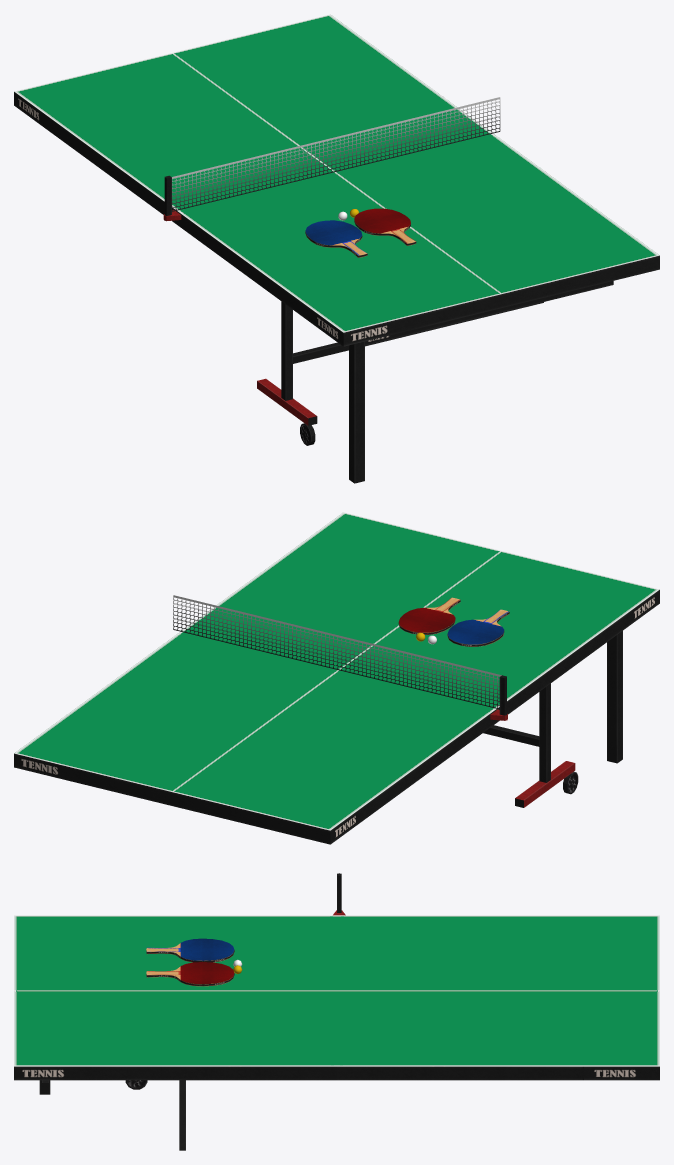
File: Tabl_tennis_Assets.fbx
3 renders of one model, top to bottom at view 1: azimuth 30°, elevation 25°; view 2: azimuth 150°, elevation 25°; view 3: azimuth 270°, elevation 25°, orthographic. The views are drawn at different scales.
Parts seen in each view (by area): view 1: Table_assets_2, Net, Table_assets_7, Rocket_Blue, Rocket_Red1, Table_assets_8, Table_assets_4, Table_assets_5, Table_assets_3; view 2: Table_assets_2, Net, Table_assets_7, Rocket_Blue, Rocket_Red1, Table_assets_4, Table_assets_5, Table_assets_3; view 3: Table_assets_2, Rocket_Red1, Rocket_Blue, Table_assets_3.
Boxes of the visible parts, x1,y1,x2,y2 form: Table_assets_2: [14, 14, 659, 346]; Net: [172, 97, 500, 211]; Table_assets_7: [349, 341, 364, 483]; Rocket_Blue: [305, 220, 367, 257]; Rocket_Red1: [354, 208, 416, 245]; Table_assets_8: [365, 281, 613, 345]; Table_assets_4: [281, 301, 292, 400]; Table_assets_5: [257, 378, 317, 425]; Table_assets_3: [293, 302, 543, 363]; Table_assets_2: [14, 512, 659, 844]; Net: [173, 595, 501, 709]; Table_assets_7: [607, 631, 622, 763]; Rocket_Blue: [447, 609, 509, 646]; Rocket_Red1: [398, 597, 460, 634]; Table_assets_4: [539, 683, 550, 782]; Table_assets_5: [515, 761, 575, 807]; Table_assets_3: [483, 725, 539, 746]; Table_assets_2: [14, 915, 659, 1080]; Rocket_Red1: [146, 962, 234, 986]; Rocket_Blue: [146, 938, 234, 962]; Table_assets_3: [179, 1080, 185, 1150].
Size of the model in its own units: 161 by 93.36 by 275.
